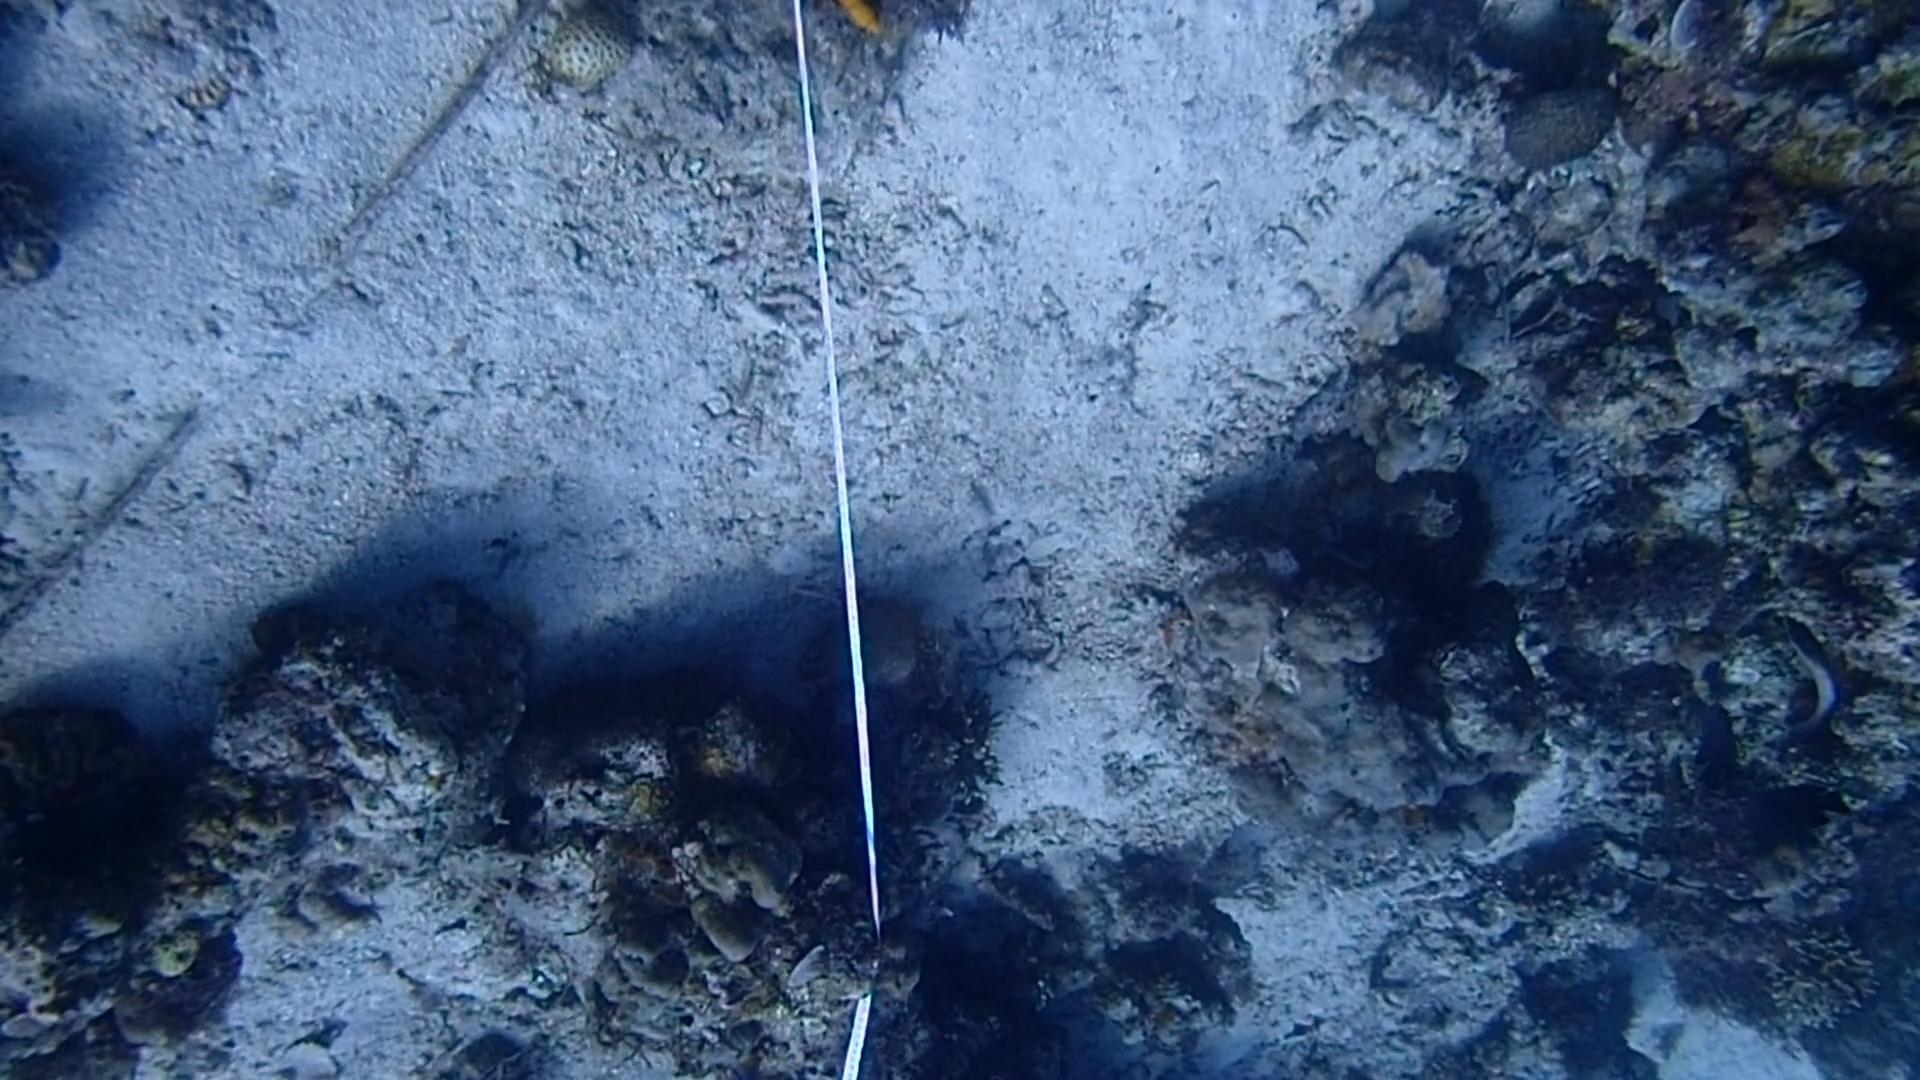Dark Fish: (1731, 775, 1858, 856), (1683, 699, 1741, 795)
